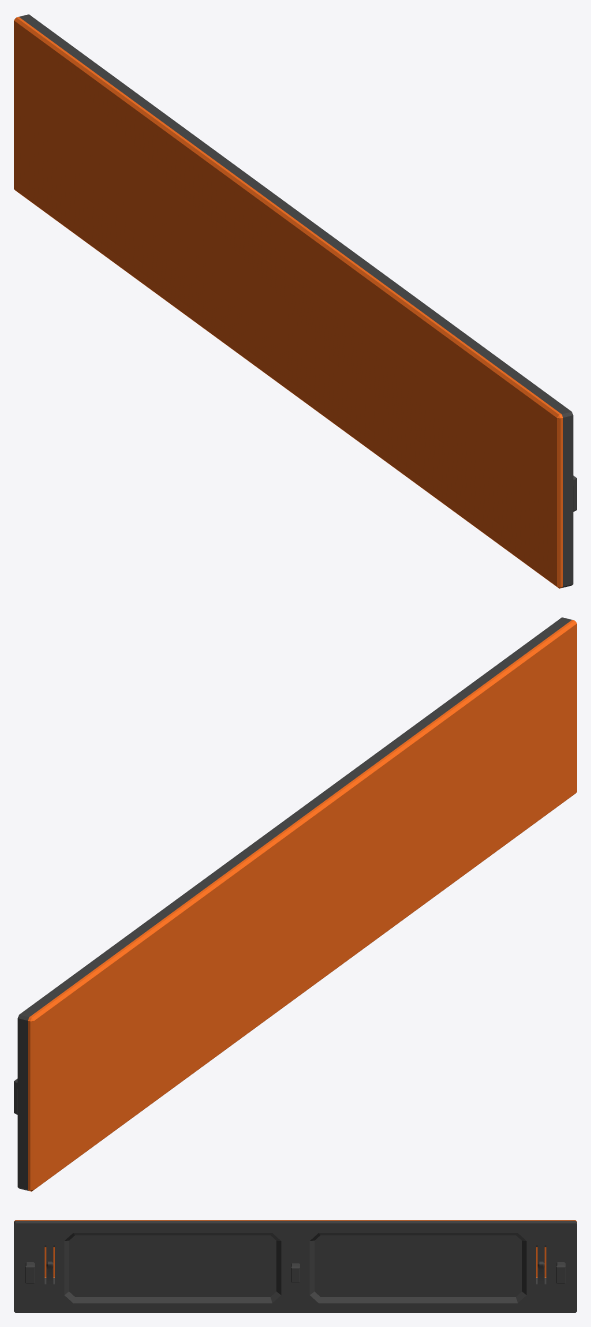
File: SideCover_165-05H.lib.glb
3 views of the same model, one above another, from view 1: azimuth 30°, elevation 25°; view 2: azimuth 150°, elevation 25°; view 3: azimuth 270°, elevation 25° (orthographic). The views are drawn at different scales.
Parts seen in each view (by area): view 1: SideCover_165-05H; view 2: SideCover_165-05H; view 3: SideCover_165-05H.
Part boxes in pixels (x1,y1,x2,y2): SideCover_165-05H: [14, 14, 576, 588]; SideCover_165-05H: [14, 617, 576, 1191]; SideCover_165-05H: [14, 1220, 576, 1312].
Size of the model in its own units: 5.04 by 27.6 by 157.
